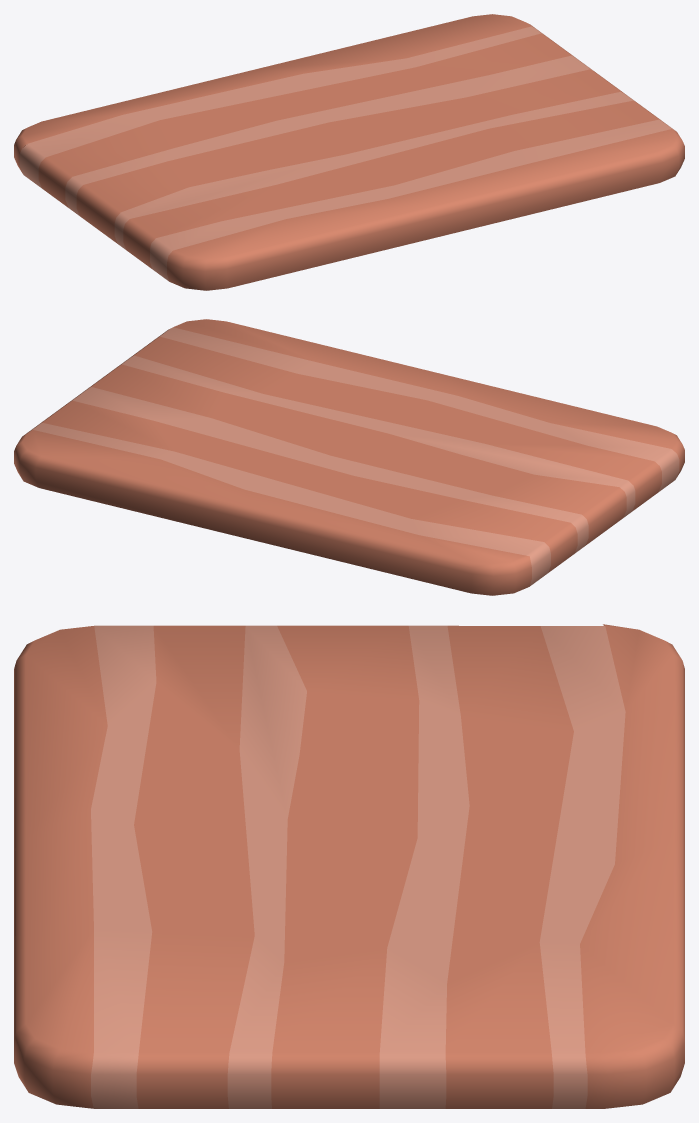
File: board_003.fbx
3 renders of one model, top to bottom at view 1: azimuth 30°, elevation 25°; view 2: azimuth 150°, elevation 25°; view 3: azimuth 270°, elevation 25°, orthographic. The views are drawn at different scales.
Parts seen in each view (by area): view 1: board_003; view 2: board_003; view 3: board_003.
Boxes of the visible parts, x1,y1,x2,y2 form: board_003: (14,14,684,290); board_003: (14,319,684,595); board_003: (14,624,684,1108).
Size of the model in its own units: 35.03 by 22.66 by 2.02.
